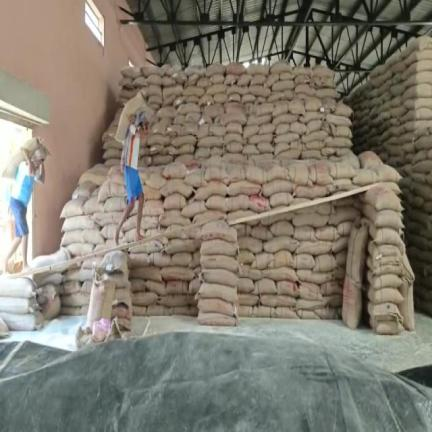Zone-Counting: (0, 137, 49, 273), (115, 92, 152, 243)
